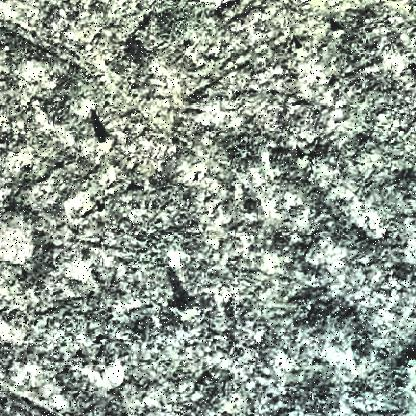tree-top: (172, 298, 198, 322), (95, 134, 113, 152)
